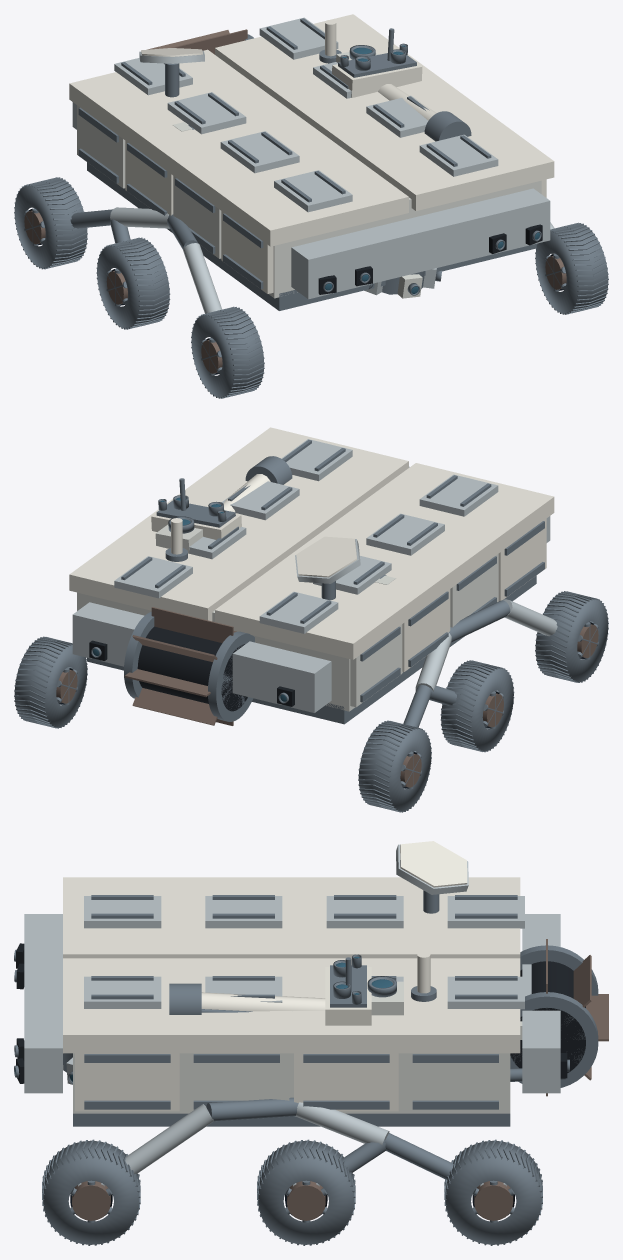
Rendered from perseverance_rover_stowed.glb.
The picture shows the model from 3 angles, top to bottom: view 1: azimuth 30°, elevation 25°; view 2: azimuth 150°, elevation 25°; view 3: azimuth 270°, elevation 25°; orthographic projection. The views are drawn at different scales.
Visible parts, largest first — view 1: perseverance_bodydeckmesh_Warm_white_enamel, perseverance_bodyfront_equipmentmesh_Satin_aluminum, perseverance_bodydeckmesh_Satin_aluminum, perseverance_bodymesh_Pale_thermal_blanket, perseverance_mobilityrocker_leftbogieaxle_middlewheel_middle (×2), perseverance_mobilityrocker_leftsteer_frontwheel_frontrimmes (×2), perseverance_mobilityrocker_rightsteer_frontwheel_frontrimme (×2), perseverance_bodymesh_Machined_steel, perseverance_mobilityrocker_leftbogiesteer_rearwheel_rearrim (×2), perseverance_bodymesh_Warm_white_enamel, perseverance_bodydeckmesh_Machined_steel, perseverance_mobilityrocker_leftmesh_Satin_aluminum (+8 smaller); view 2: perseverance_bodydeckmesh_Warm_white_enamel, perseverance_bodydeckmesh_Satin_aluminum, perseverance_bodyrear_equipmentmesh_Satin_aluminum, perseverance_bodymesh_Pale_thermal_blanket, perseverance_mobilityrocker_leftbogiesteer_rearwheel_rearrim (×2), perseverance_mobilityrocker_rightbogiesteer_rearwheel_rearri (×2), perseverance_mobilityrocker_leftbogieaxle_middlewheel_middle (×2), perseverance_mobilityrocker_leftsteer_frontwheel_frontrimmes (×2), perseverance_power_commsmmrtgmesh_Heat-stained_alloy, perseverance_bodymesh_Machined_steel, perseverance_power_commsmmrtgmesh_Carbon_composite, perseverance_bodymesh_Warm_white_enamel (+11 smaller); view 3: perseverance_bodydeckmesh_Warm_white_enamel, perseverance_bodydeckmesh_Satin_aluminum, perseverance_bodymesh_Pale_thermal_blanket, perseverance_bodymesh_Machined_steel, perseverance_bodymesh_Warm_white_enamel, perseverance_mobilityrocker_rightbogiesteer_rearwheel_rearri (×2), perseverance_mobilityrocker_rightbogieaxle_middlewheel_middl (×2), perseverance_mobilityrocker_rightsteer_frontwheel_frontrimme (×2), perseverance_bodyfront_equipmentmesh_Satin_aluminum, perseverance_bodyrear_equipmentmesh_Satin_aluminum, perseverance_bodydeckmesh_Machined_steel, perseverance_mobilityrocker_rightmesh_Satin_aluminum (+13 smaller).
Part boxes in pixels (x1,y1,x2,y2): perseverance_bodydeckmesh_Warm_white_enamel: [69, 14, 554, 246]; perseverance_bodyfront_equipmentmesh_Satin_aluminum: [291, 188, 550, 299]; perseverance_bodydeckmesh_Satin_aluminum: [114, 17, 498, 212]; perseverance_bodymesh_Pale_thermal_blanket: [77, 105, 541, 298]; perseverance_mobilityrocker_leftbogieaxle_middlewheel_middle (×2): [96, 237, 170, 329]; perseverance_mobilityrocker_leftsteer_frontwheel_frontrimmes (×2): [191, 306, 264, 398]; perseverance_mobilityrocker_rightsteer_frontwheel_frontrimme (×2): [535, 222, 608, 314]; perseverance_bodymesh_Machined_steel: [78, 107, 536, 310]; perseverance_mobilityrocker_leftbogiesteer_rearwheel_rearrim (×2): [14, 177, 87, 269]; perseverance_bodymesh_Warm_white_enamel: [125, 141, 546, 293]; perseverance_bodydeckmesh_Machined_steel: [121, 18, 491, 202]; perseverance_mobilityrocker_leftmesh_Satin_aluminum: [110, 207, 221, 313]; perseverance_bodydeckmesh_Warm_white_enamel: [69, 427, 554, 659]; perseverance_bodydeckmesh_Satin_aluminum: [114, 439, 498, 633]; perseverance_bodyrear_equipmentmesh_Satin_aluminum: [72, 602, 331, 712]; perseverance_bodymesh_Pale_thermal_blanket: [77, 554, 498, 711]; perseverance_mobilityrocker_leftbogiesteer_rearwheel_rearrim (×2): [358, 720, 431, 812]; perseverance_mobilityrocker_rightbogiesteer_rearwheel_rearri (×2): [14, 636, 87, 728]; perseverance_mobilityrocker_leftbogieaxle_middlewheel_middle (×2): [440, 660, 514, 752]; perseverance_mobilityrocker_leftsteer_frontwheel_frontrimmes (×2): [535, 591, 608, 682]; perseverance_power_commsmmrtgmesh_Heat-stained_alloy: [124, 607, 236, 725]; perseverance_bodymesh_Machined_steel: [87, 521, 544, 724]; perseverance_power_commsmmrtgmesh_Carbon_composite: [137, 626, 247, 711]; perseverance_bodymesh_Warm_white_enamel: [402, 518, 546, 671]; perseverance_bodydeckmesh_Warm_white_enamel: [63, 877, 520, 1053]; perseverance_bodydeckmesh_Satin_aluminum: [84, 896, 524, 1009]; perseverance_bodymesh_Pale_thermal_blanket: [73, 1053, 510, 1113]; perseverance_bodymesh_Machined_steel: [73, 1054, 510, 1126]; perseverance_bodymesh_Warm_white_enamel: [75, 1053, 398, 1111]; perseverance_mobilityrocker_rightbogiesteer_rearwheel_rearri (×2): [444, 1139, 542, 1245]; perseverance_mobilityrocker_rightbogieaxle_middlewheel_middl (×2): [257, 1139, 355, 1245]; perseverance_mobilityrocker_rightsteer_frontwheel_frontrimme (×2): [42, 1139, 140, 1245]; perseverance_bodyfront_equipmentmesh_Satin_aluminum: [24, 914, 62, 1093]; perseverance_bodyrear_equipmentmesh_Satin_aluminum: [522, 914, 560, 1093]; perseverance_bodydeckmesh_Machined_steel: [91, 895, 517, 999]; perseverance_mobilityrocker_rightmesh_Satin_aluminum: [125, 1102, 389, 1173].
Size of the model in its own units: 2.72 by 1.48 by 3.24.
